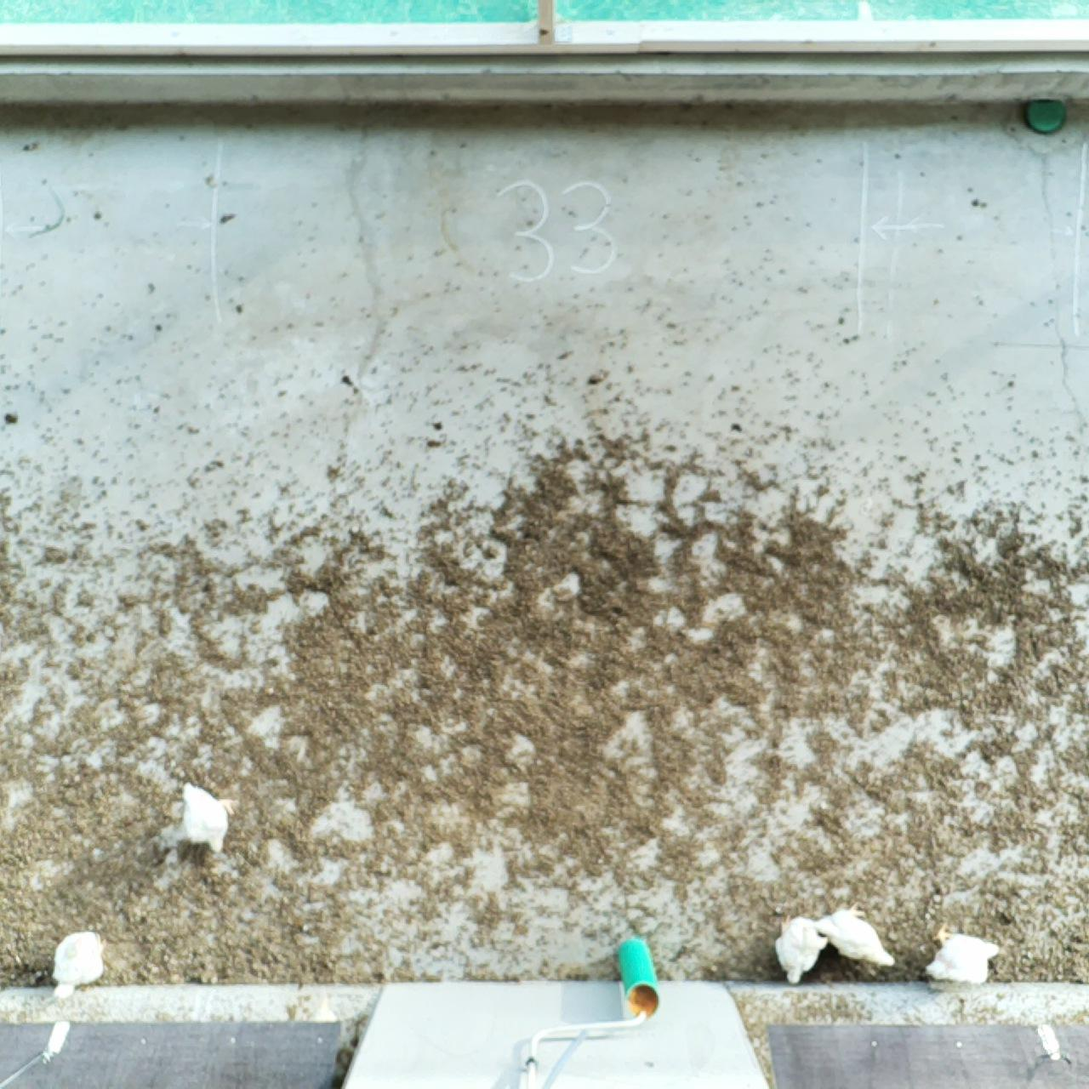chicken: (817, 896, 900, 974), (918, 919, 1005, 990), (171, 777, 244, 858), (46, 925, 114, 1003), (770, 905, 831, 987)
